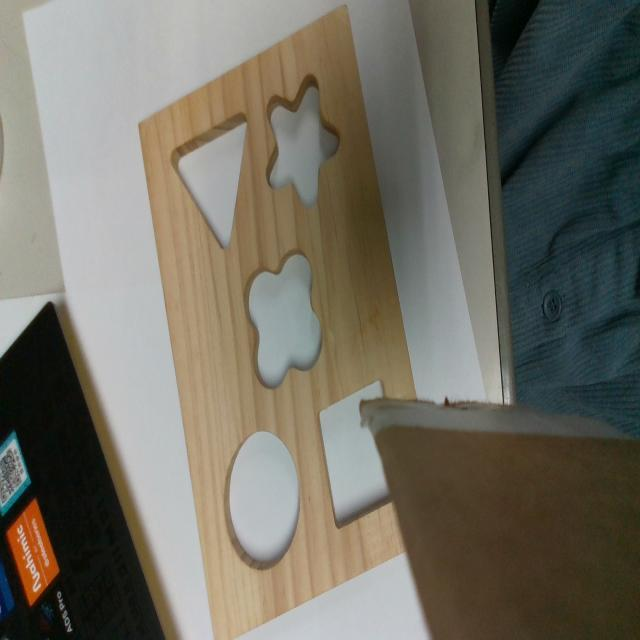circle: (225, 429, 300, 569)
flower: (241, 253, 324, 391)
square: (317, 374, 393, 532)
star: (266, 74, 340, 208)
triangle: (168, 108, 249, 253)
